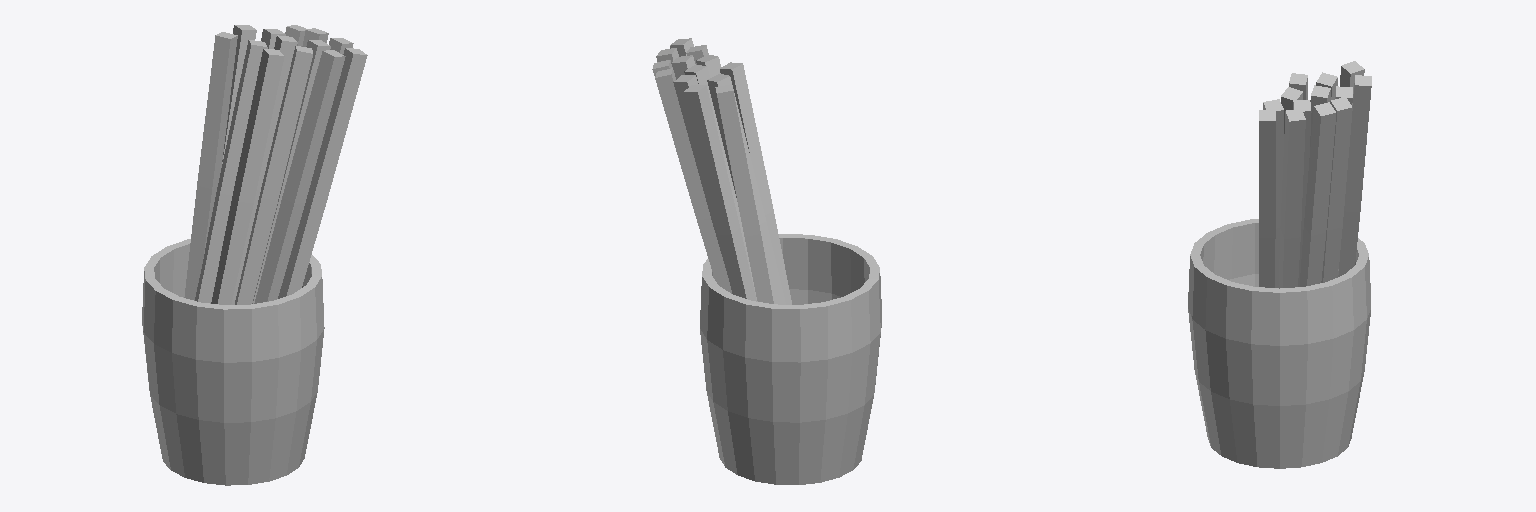
The model's file is ChopstickCup.obj.
3 views of the same model, side by side, from view 1: azimuth 30°, elevation 25°; view 2: azimuth 150°, elevation 25°; view 3: azimuth 270°, elevation 25° (orthographic).
Visible parts, largest first — view 1: pCylinder2; view 2: pCylinder2; view 3: pCylinder2.
Boxes of the visible parts, box(x1,y1,x2,y2) form: pCylinder2: box(142, 25, 367, 485); pCylinder2: box(652, 38, 881, 484); pCylinder2: box(1188, 61, 1371, 468).
Size of the model in its own units: 2.41 by 4.35 by 1.87.